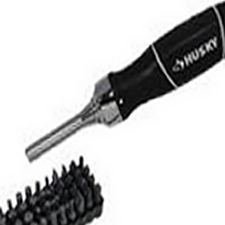screwdriver: (20, 2, 225, 165)
